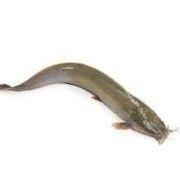Catfish: (2, 61, 175, 143)
